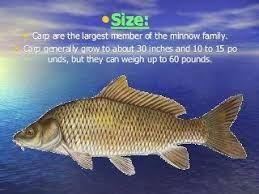Grass Carp: (13, 76, 248, 178)
